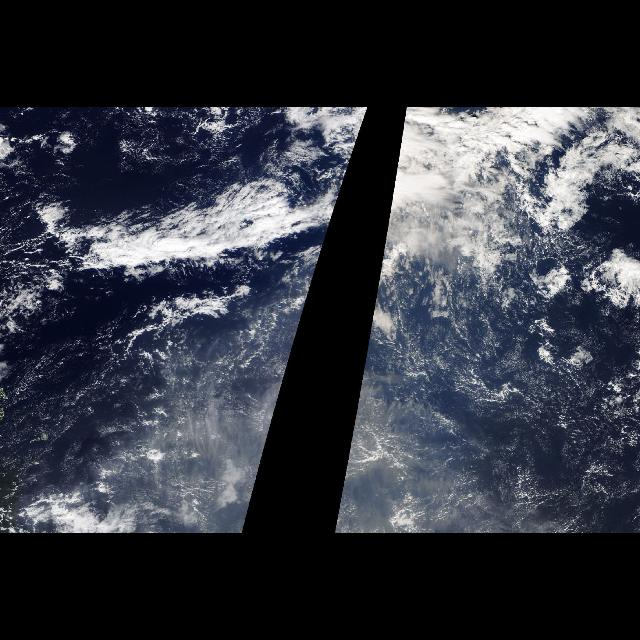Fish: (15, 113, 367, 293), (376, 113, 562, 293)
Sugar: (336, 288, 632, 532), (236, 288, 312, 488)
